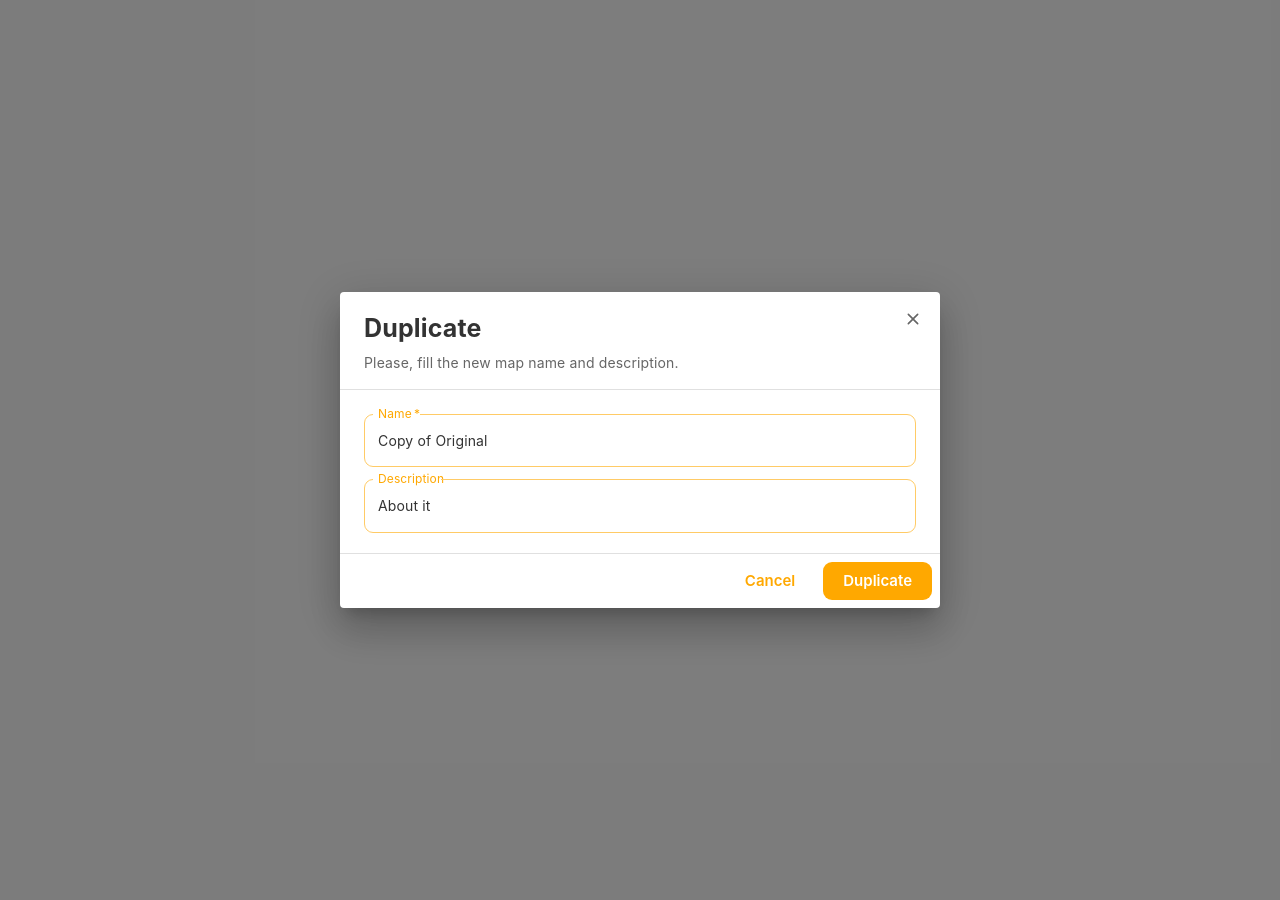
Test case: DuplicateDialog errors › typing clears a previous error
Click the button "Duplicate". click: [878, 581]
box: [823,562,932,600]
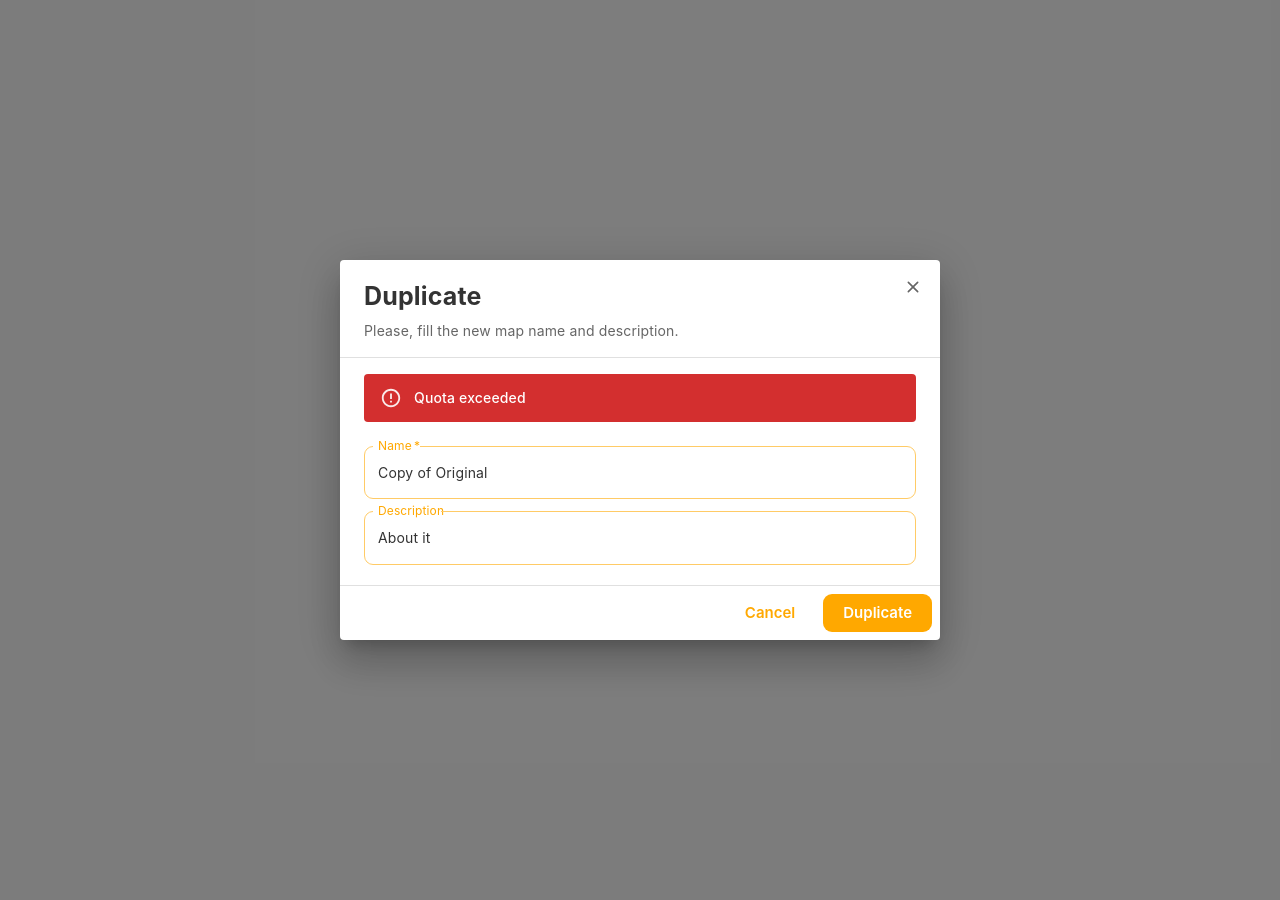
Result: the text "Quota exceeded" is shown at [414,389,526,406]
Replace the text in the field showing "Copy of Original" with "Second copy". click: [640, 473]
box: [364,446,916,499]
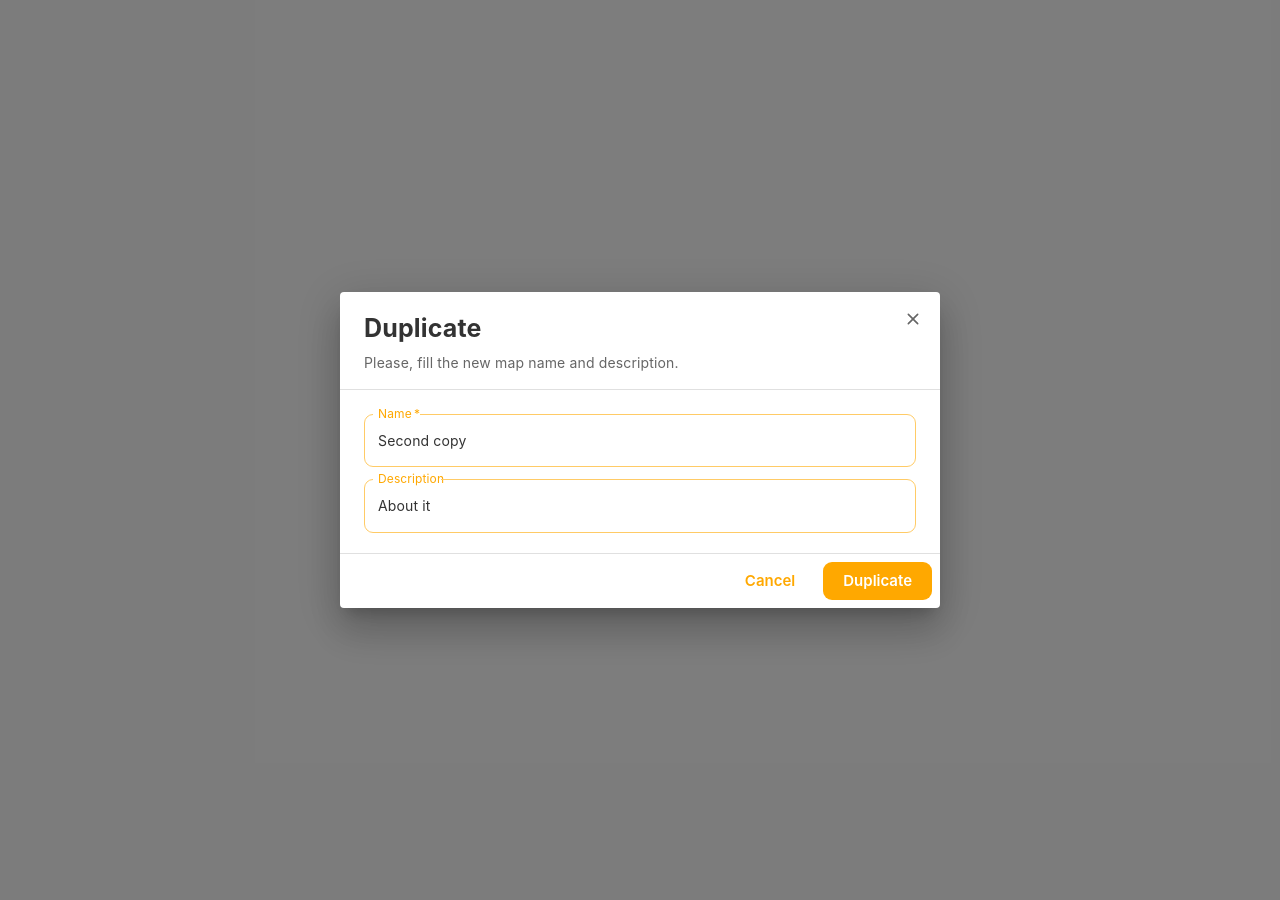
Result: the text "Quota exceeded" is gone
